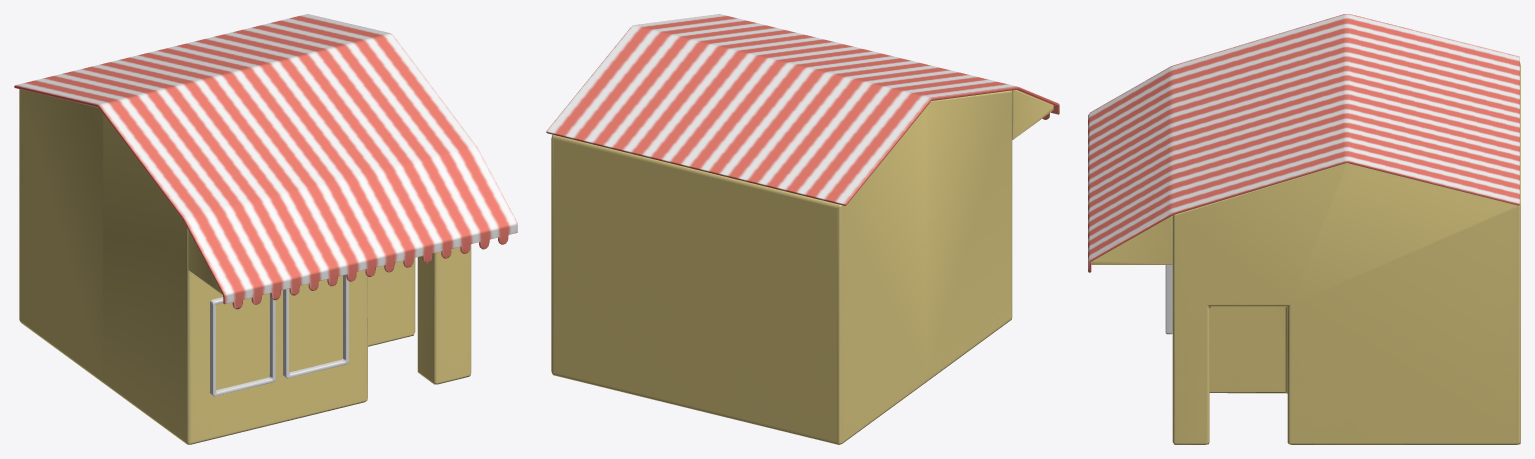
The model's file is building_set_005_lp.fbx.
3 views of the same model, side by side, from view 1: azimuth 30°, elevation 25°; view 2: azimuth 150°, elevation 25°; view 3: azimuth 270°, elevation 25° (orthographic). The views are drawn at different scales.
Parts seen in each view (by area): view 1: building_set_005; view 2: building_set_005; view 3: building_set_005.
Boxes of the visible parts, x1,y1,x2,y2 form: building_set_005: (14, 14, 517, 444); building_set_005: (546, 14, 1059, 444); building_set_005: (1088, 14, 1520, 444).
Size of the model in its own units: 472 by 430 by 586.
1 material, 1 textured.
